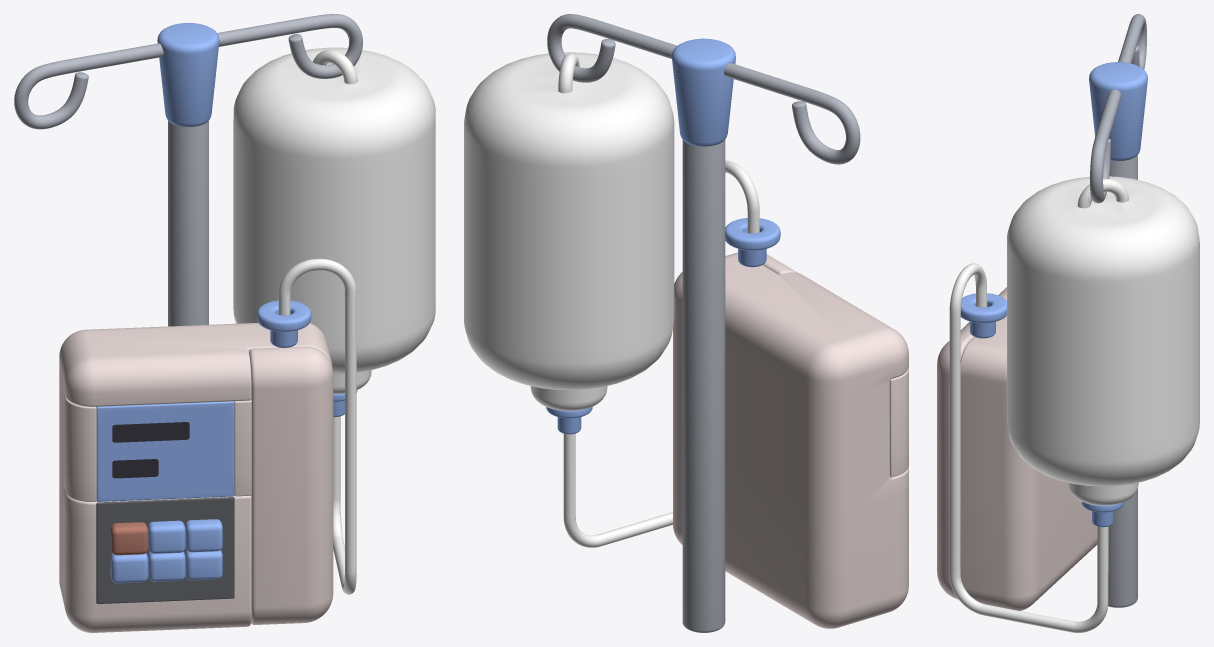
File: Infusion Pump.glb
3 views of the same model, side by side, from view 1: azimuth 30°, elevation 25°; view 2: azimuth 150°, elevation 25°; view 3: azimuth 270°, elevation 25° (orthographic). The views are drawn at different scales.
Parts seen in each view (by area): view 1: Cylinder, Cube, Cube.001, Cube.002, Cylinder.005, Cube.006, Plane.001, Cube.003, Plane, Cylinder.006, Cube.005, Cylinder.003; view 2: Cylinder, Cube, Cylinder.005, Plane.001, Cylinder.006, Plane, Cube.002, Cylinder.003, Cylinder.004; view 3: Cylinder, Cube, Plane, Cylinder.006, Cylinder.005, Cube.001, Plane.001, Cylinder.003, Cylinder.004.
Part boxes in pixels (left/top/right/bottom): Cylinder: left=233, top=47, right=435, bottom=394; Cube: left=59, top=323, right=332, bottom=632; Cube.001: left=249, top=347, right=333, bottom=624; Cube.002: left=64, top=395, right=251, bottom=501; Cylinder.005: left=168, top=120, right=208, bottom=326; Cube.006: left=96, top=497, right=234, bottom=603; Plane.001: left=14, top=14, right=362, bottom=129; Cube.003: left=110, top=519, right=222, bottom=583; Plane: left=278, top=258, right=356, bottom=594; Cylinder.006: left=157, top=23, right=219, bottom=127; Cube.005: left=112, top=422, right=189, bottom=478; Cylinder.003: left=257, top=300, right=311, bottom=347; Cylinder: left=464, top=52, right=674, bottom=410; Cube: left=673, top=252, right=908, bottom=628; Cylinder.005: left=682, top=139, right=725, bottom=632; Plane.001: left=547, top=14, right=860, bottom=164; Cylinder.006: left=671, top=38, right=735, bottom=146; Plane: left=563, top=160, right=759, bottom=547; Cube.002: left=890, top=368, right=908, bottom=477; Cylinder.003: left=725, top=218, right=780, bottom=267; Cylinder.004: left=546, top=406, right=592, bottom=434; Cylinder: left=1007, top=176, right=1199, bottom=505; Cube: left=960, top=287, right=1097, bottom=610; Plane: left=949, top=263, right=1108, bottom=632; Cylinder.006: left=1089, top=62, right=1147, bottom=160; Cylinder.005: left=1108, top=155, right=1137, bottom=607; Cube.001: left=937, top=322, right=974, bottom=599; Plane.001: left=1090, top=14, right=1146, bottom=203; Cylinder.003: left=960, top=293, right=1006, bottom=338; Cylinder.004: left=1081, top=502, right=1124, bottom=527.
Size of the model in its own units: 3.67 by 5.02 by 2.26.
